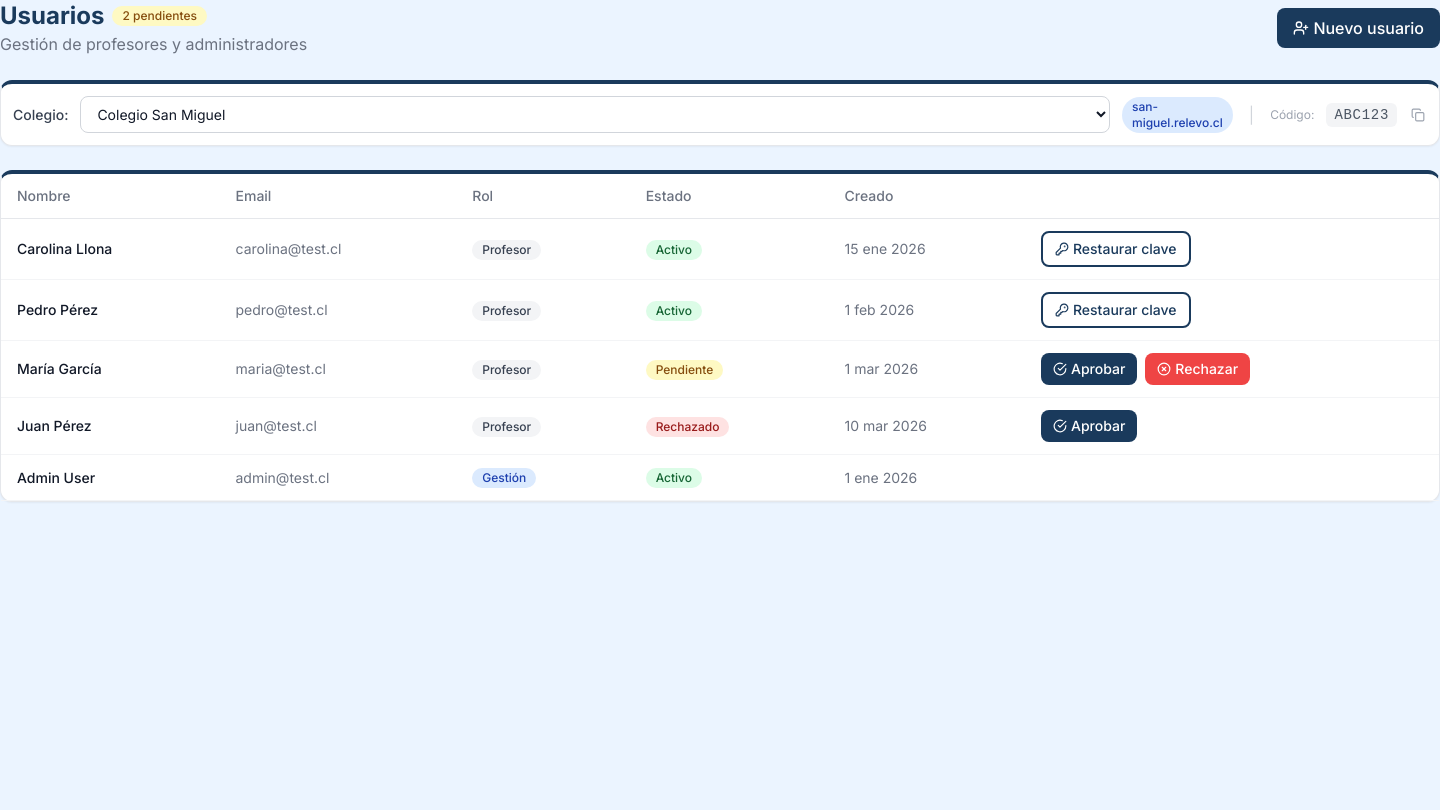
Scenario: UsuariosPage › Modal de crear usuario — apertura y cierre › abre el modal al hacer click en "Nuevo usuario"
Click the button "Nuevo usuario" at x=1359, y=28, box [1277, 8, 1439, 48]
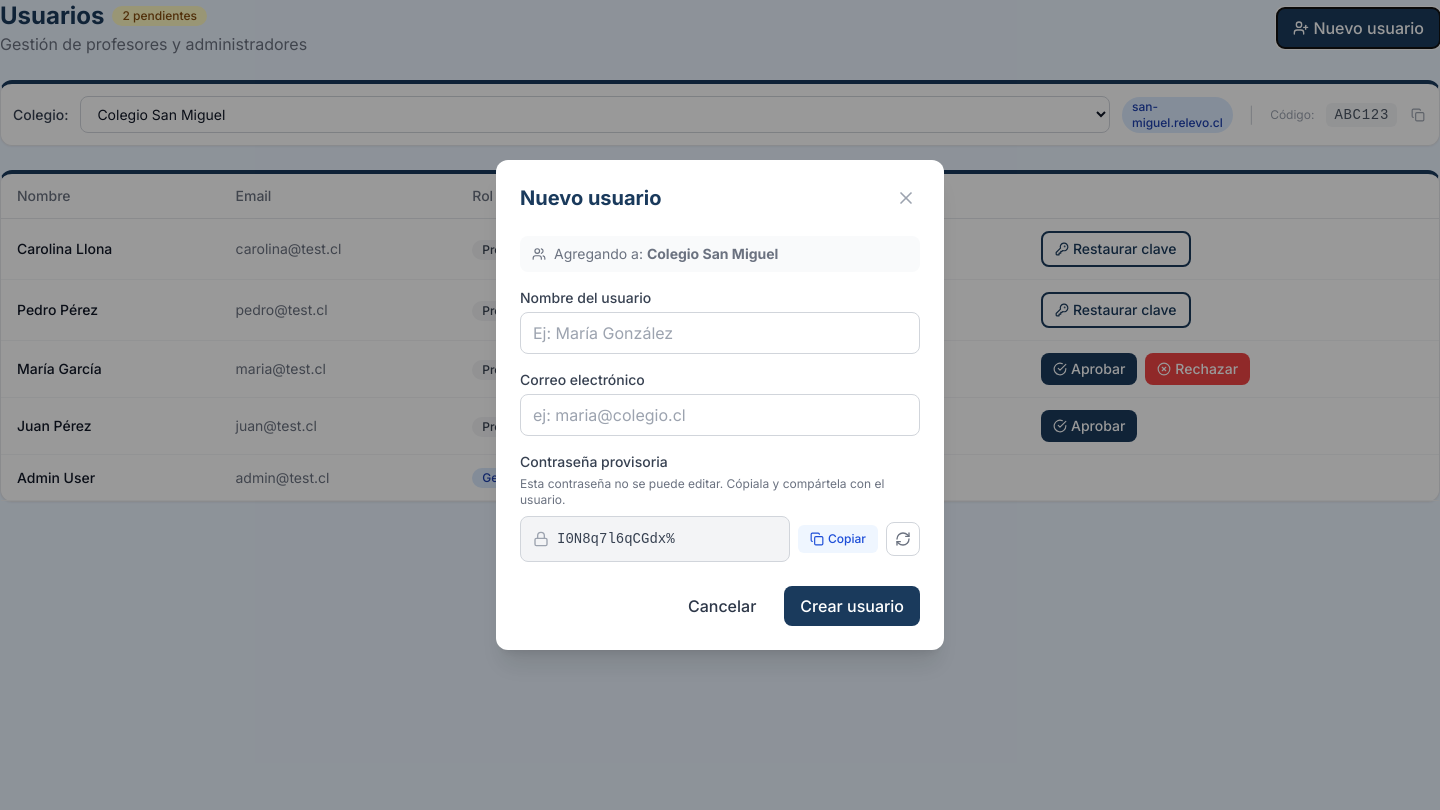
expect the dialog "Nuevo usuario" is shown: met
